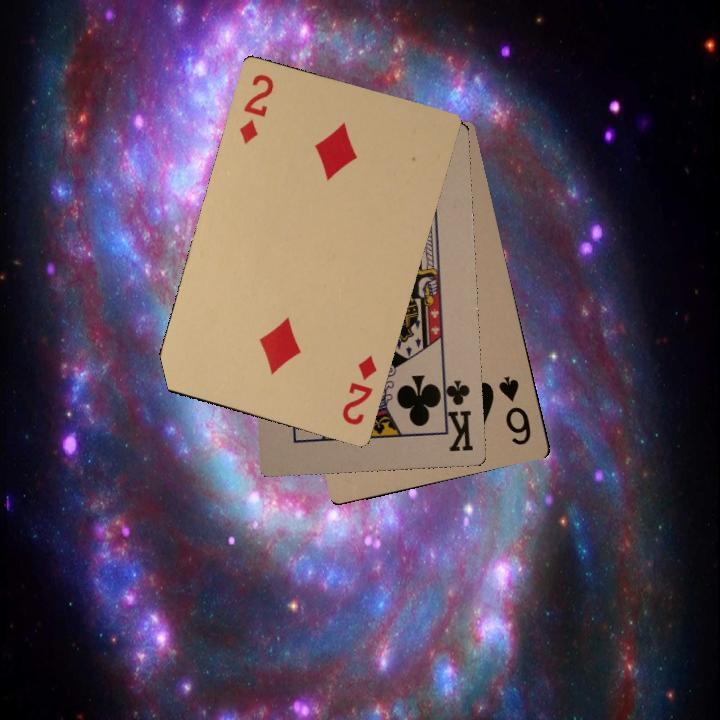2d: (338, 351, 380, 428), (235, 70, 277, 147)
6s: (494, 372, 534, 448)
Kc: (437, 373, 476, 454)
